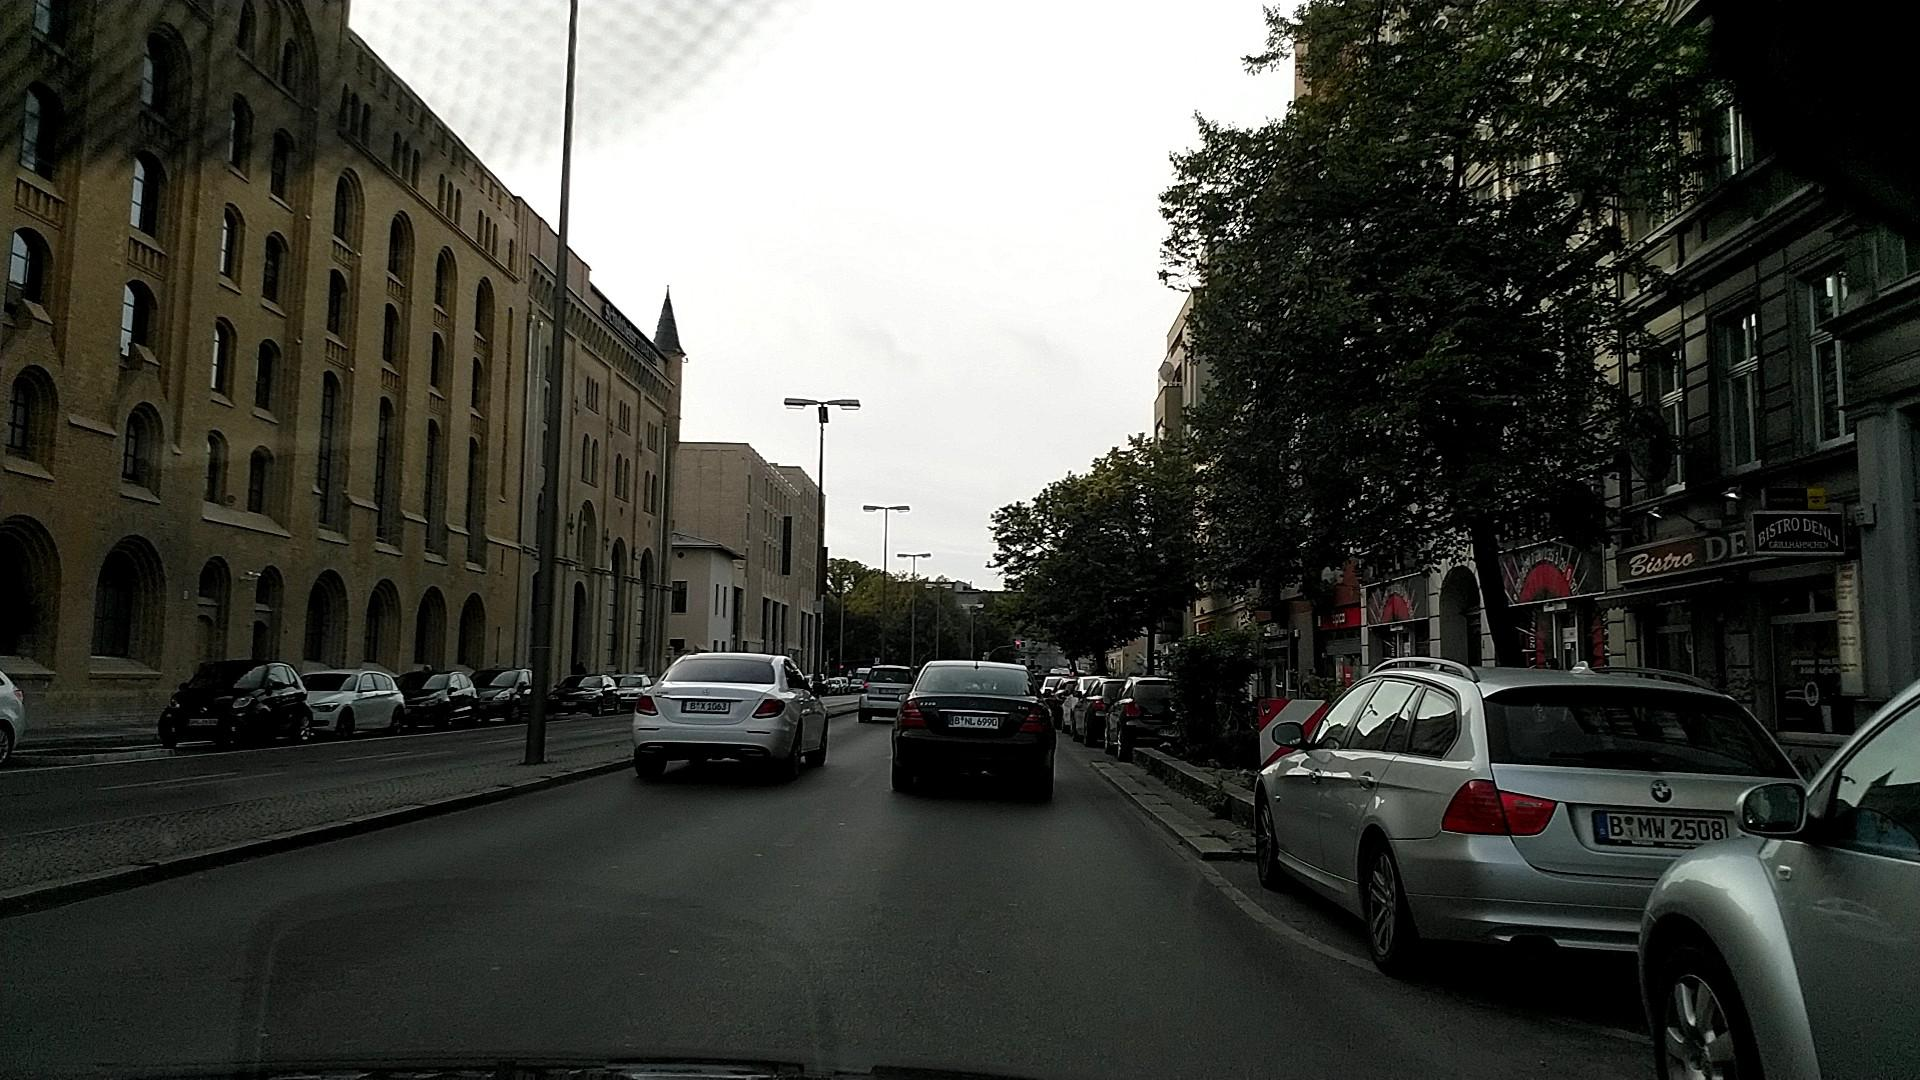Vehicle registration plate: (1593, 810, 1732, 847), (946, 716, 999, 729), (682, 700, 729, 713)
